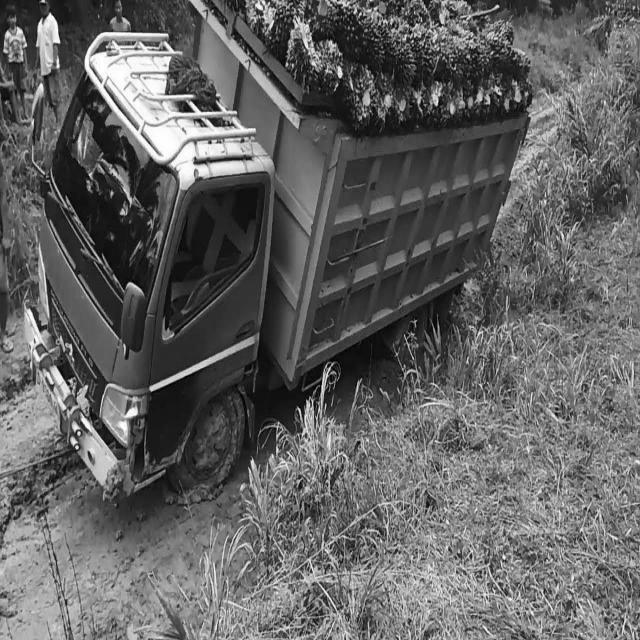truck: (1, 1, 306, 518)
